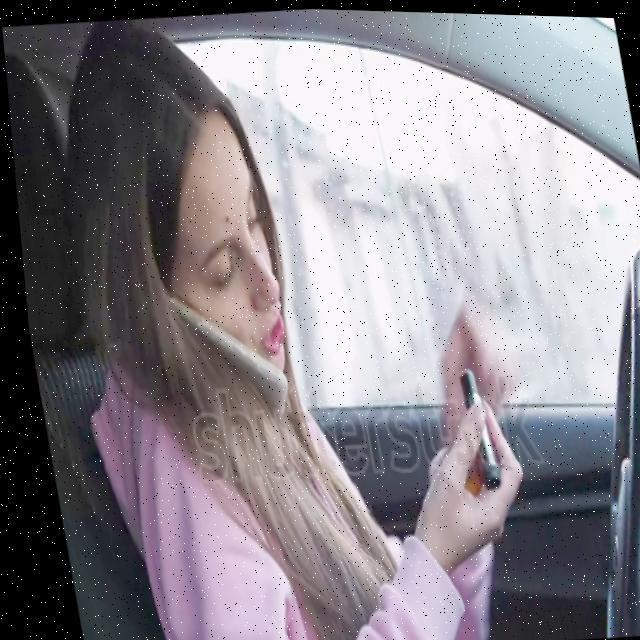PhoneCall: (146, 278, 288, 430)
